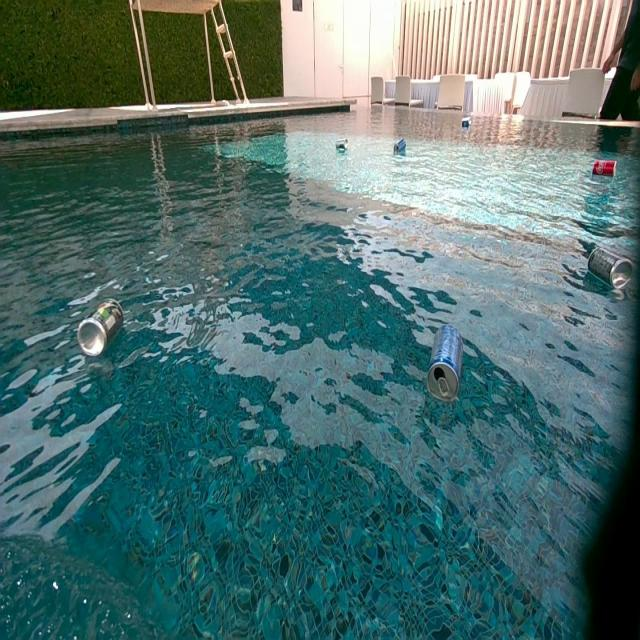Cans: (425, 324, 464, 404), (78, 300, 124, 356), (586, 246, 636, 293), (592, 161, 615, 177), (393, 139, 406, 153), (336, 140, 349, 154), (461, 117, 470, 128)
